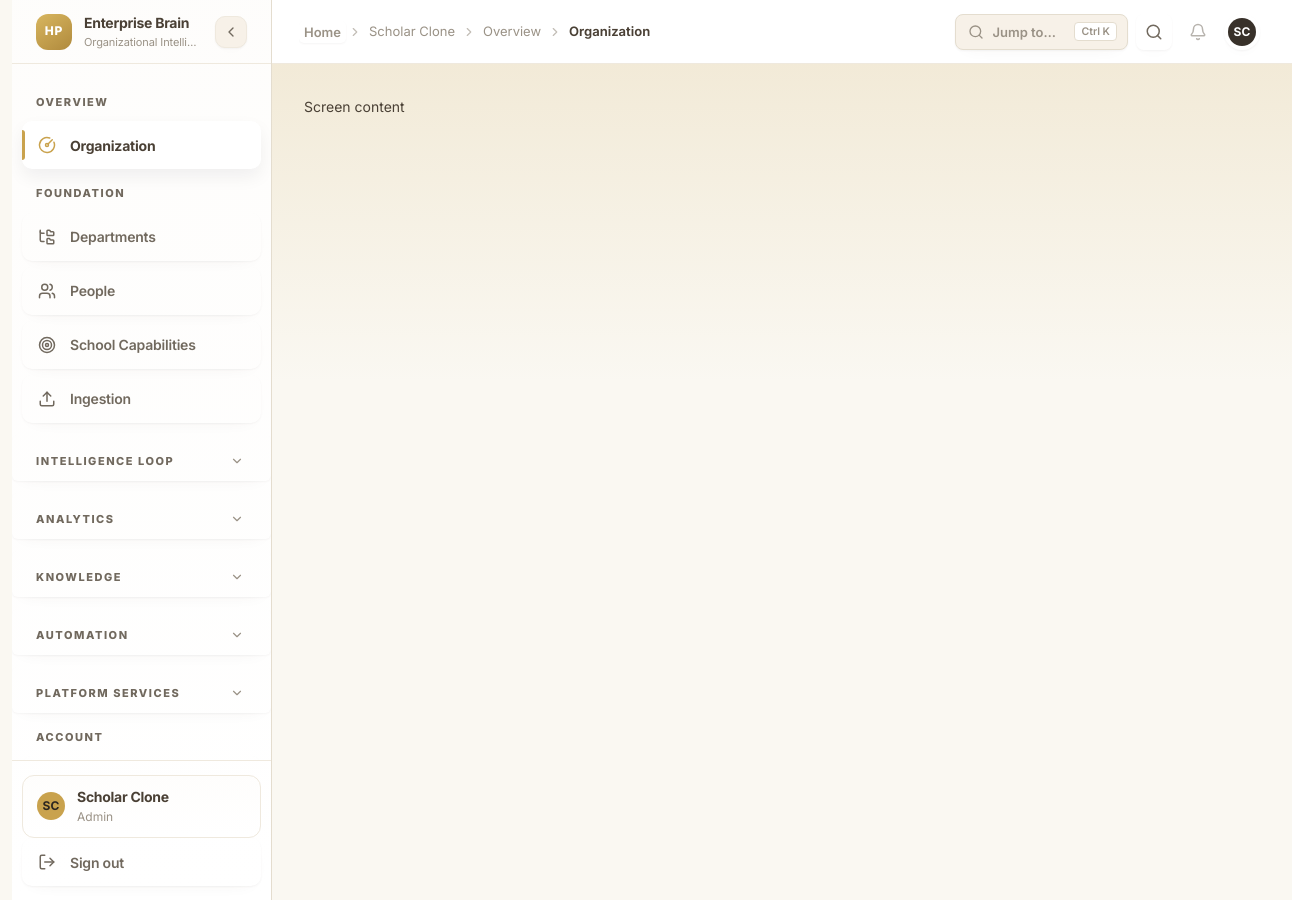
Test: user menu › closes when the pointer goes down outside it
The image size is (1292, 900).
Click the button with aria-label "Account menu for Scholar Clone" at (1242, 32), box [1224,14,1260,50]
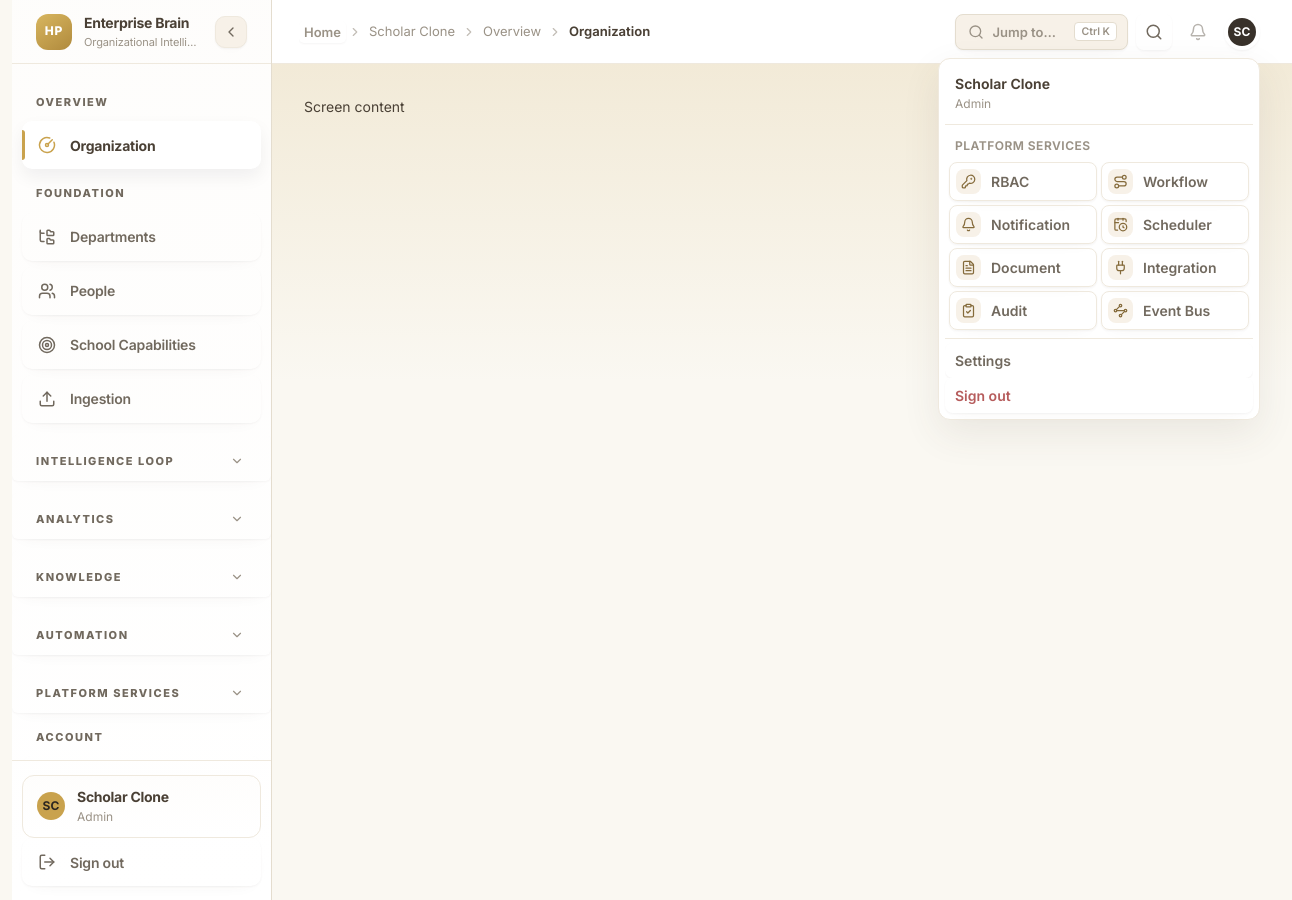
Press the mouse on the element that starts with "Skip to main content" at (652, 450), box [12,0,1291,899]
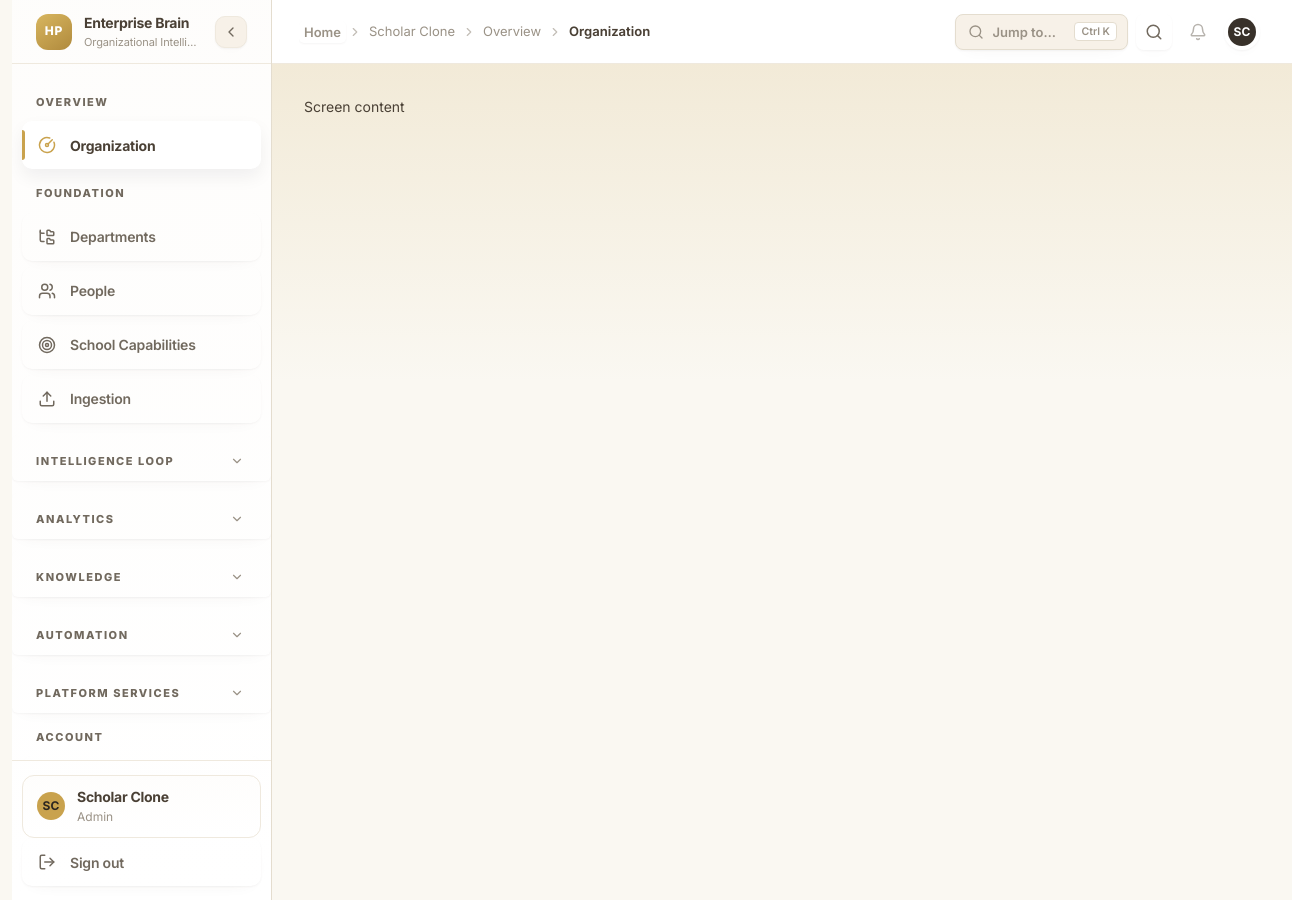
Expected: the menu is gone
